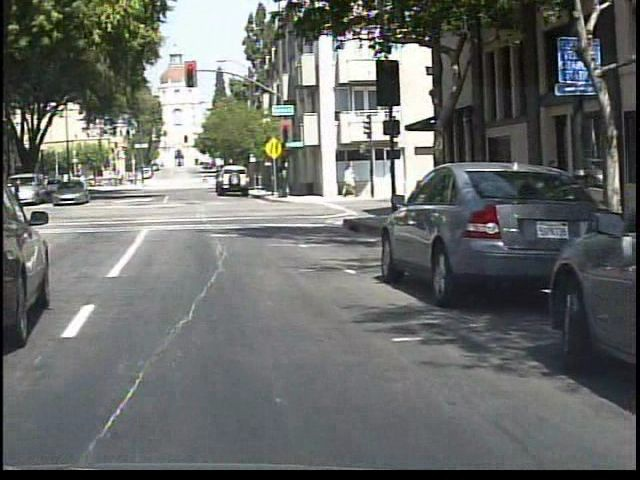person: (9, 171, 30, 213), (199, 173, 214, 190), (2, 175, 3, 212)
